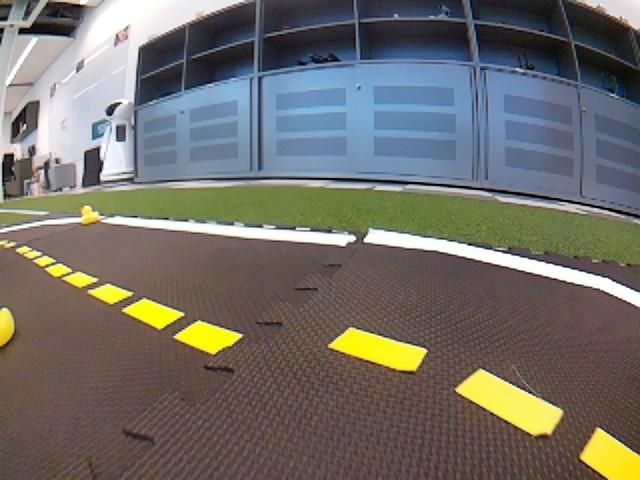Duckies: (0, 307, 16, 348), (80, 206, 100, 222)
